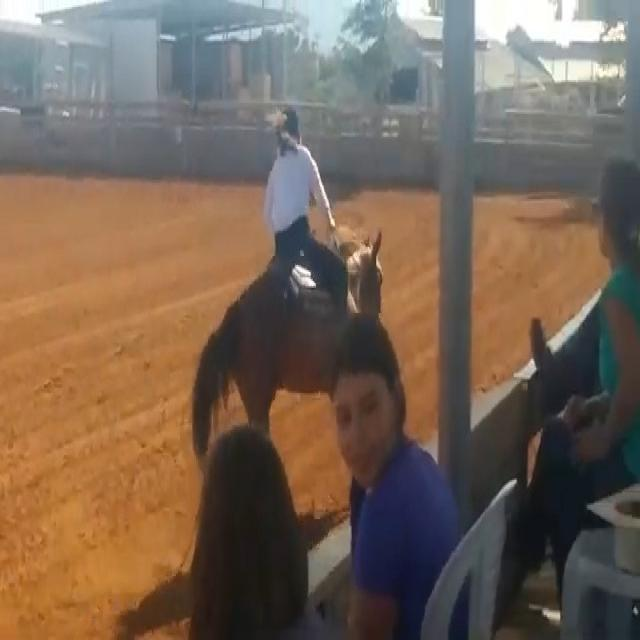horse: (189, 222, 385, 478)
